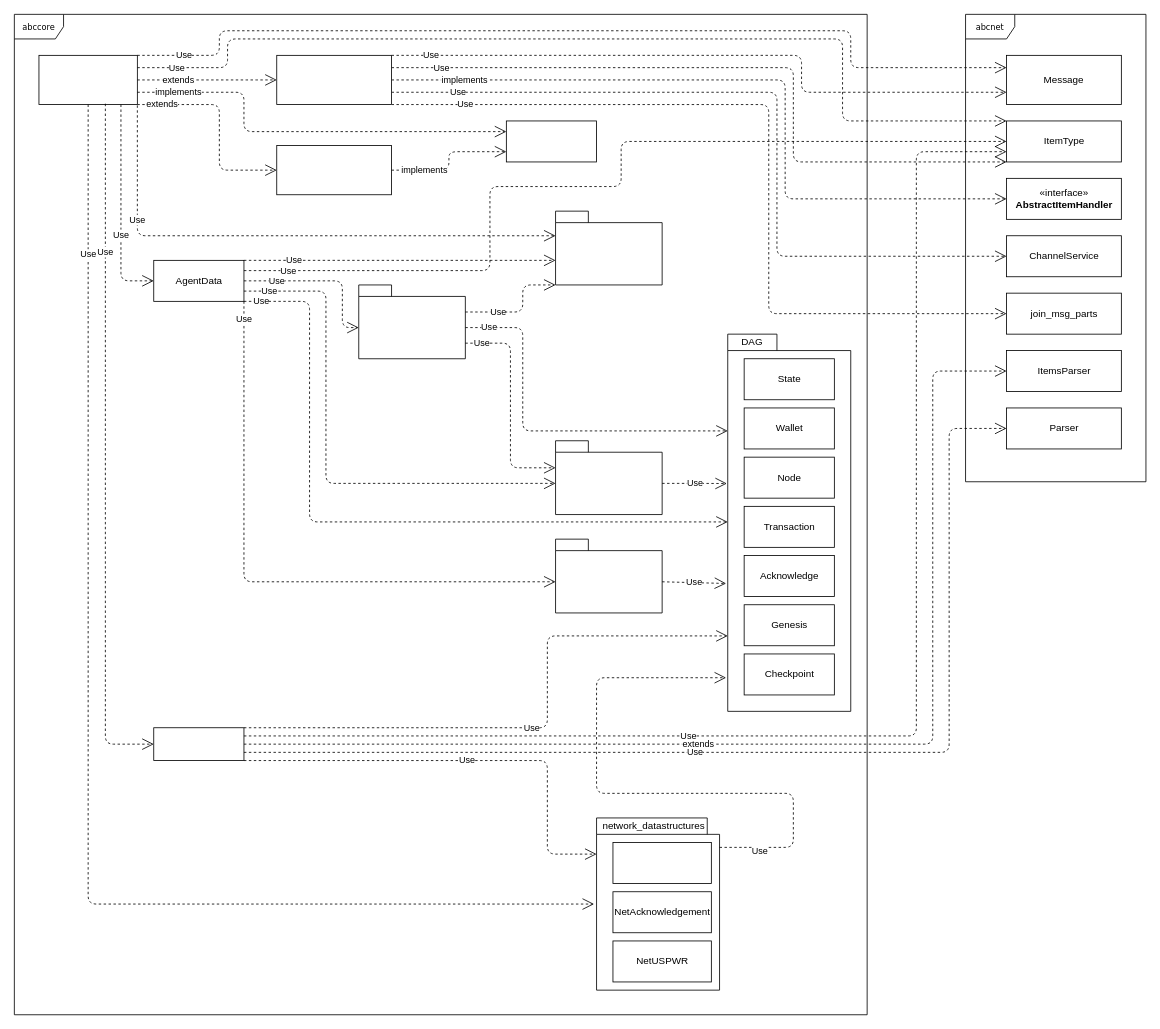
Image size: 1160x1029. Some labels were removed from this diagram. The centre of each missing label's shape, as x and y in pixels:
"Agent" goes at [87,80].
"agent_crypto" goes at [608,247].
"AgentItemsParser" goes at [198,744].
"AgentMessageHandler" goes at [334,80].
"LocalMessageHandler" goes at [334,170].
"NetTransaction" goes at [661,863].
"outputs_helper" goes at [608,575].
"prefix_tree" goes at [608,477].
"save_handler" goes at [411,321].
"«interface» AgentInterface" goes at [551,141].
